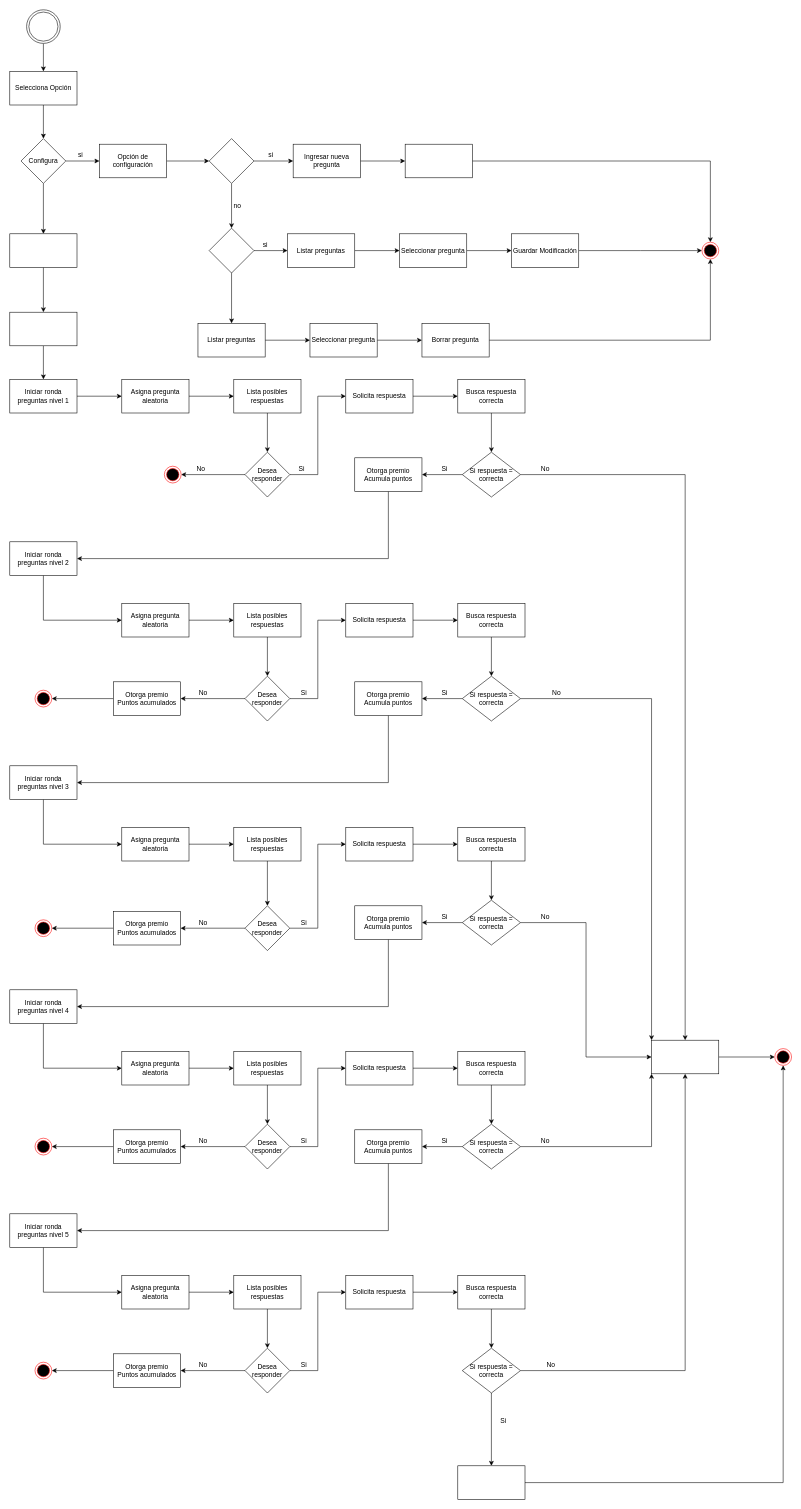
This 801x1509 diagram has some shape labels left out. Each missing label, with the centre of its shape:
"Crear nueva pregunta" goes at point 231,160.
"Guardar nueva pregunta" goes at point 438,161.
"Inicia" goes at point 43,26.
"Inicia juego" goes at point 43,250.
"Modificar Pregunta" goes at point 231,250.
"Otorga premio Mayor" goes at point 491,1482.
"Pierde juego" goes at point 685,1057.
"Registra jugador" goes at point 43,329.
